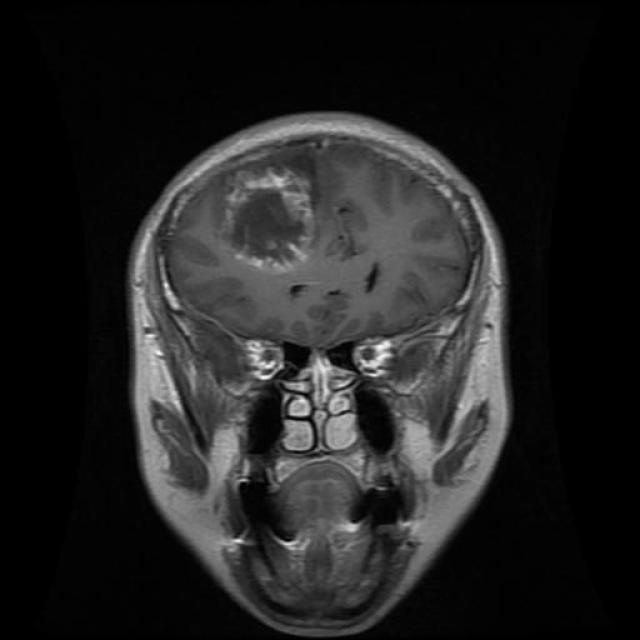glioma: (228, 176, 318, 265)
